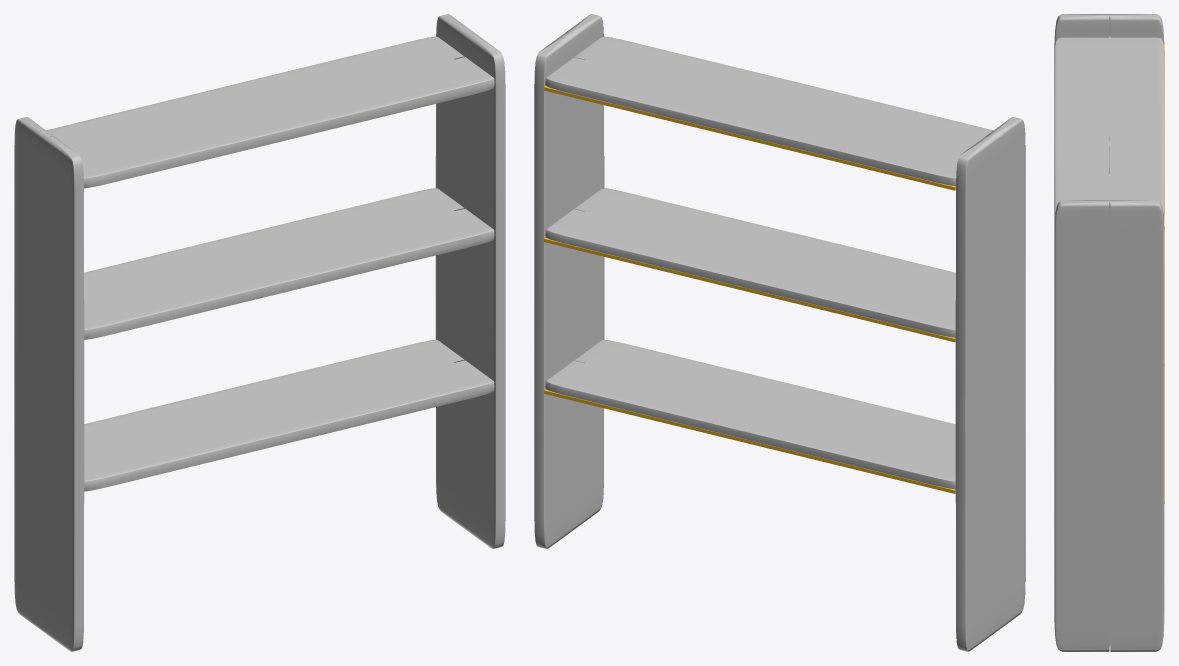
File: home_shelf.fbx
The picture shows the model from 3 angles, left to right: view 1: azimuth 30°, elevation 25°; view 2: azimuth 150°, elevation 25°; view 3: azimuth 270°, elevation 25°; orthographic projection. The views are drawn at different scales.
Visible parts, largest first — view 1: home_shelf; view 2: home_shelf; view 3: home_shelf.
Part boxes in pixels (<box>): home_shelf: <box>14,14,505,651</box>; home_shelf: <box>534,14,1025,651</box>; home_shelf: <box>1054,14,1164,651</box>.
Bounding box in the file's own units: 1.64 × 1.8 × 0.401.
